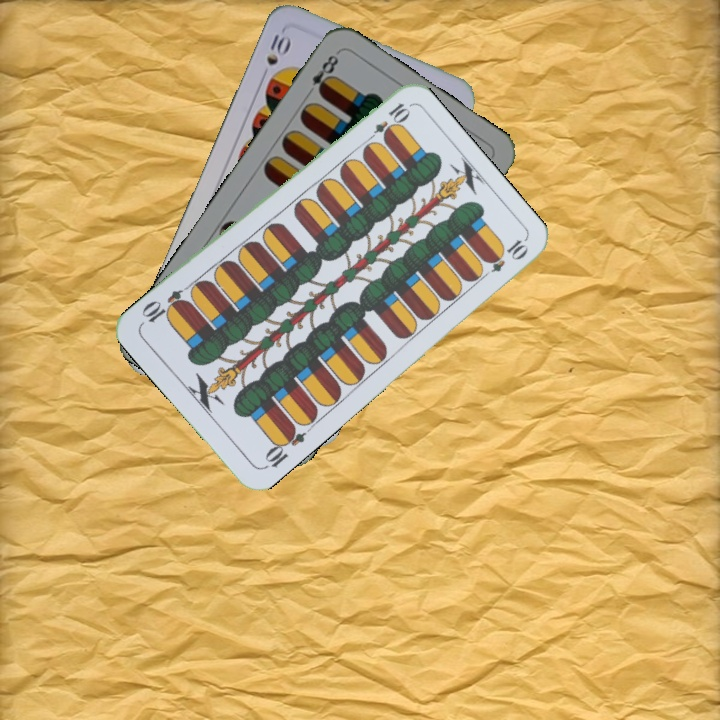E10: (259, 421, 308, 472), (362, 98, 412, 147)
E8: (302, 48, 342, 100)
S10: (262, 30, 293, 68)
